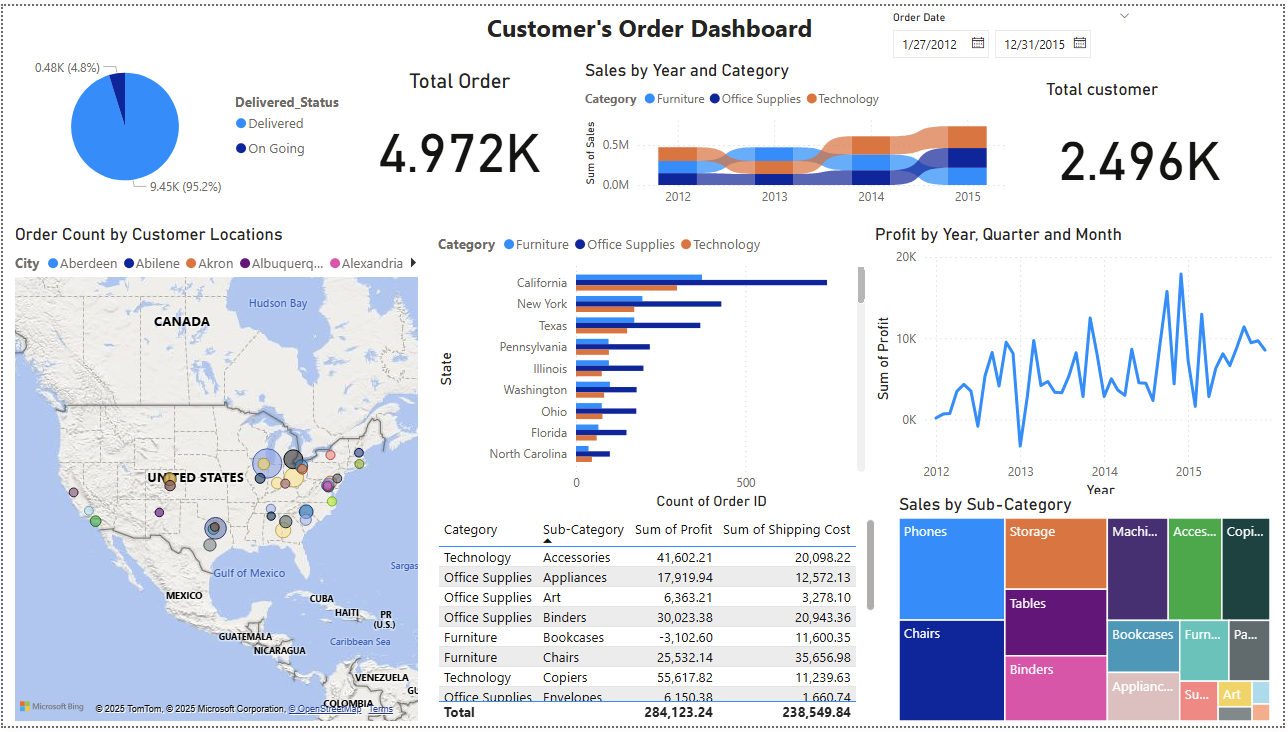

What the dashboard file says about the page in this screenshot:
{"tool":"powerbi","page":{"name":"Customer Order","canvas":[1280,720],"ordinal":0},"visuals":[{"type":"map","title":"Order Count by Customer Locations","fields":{"Y":["worldcities.lat"],"X":["worldcities.lng"],"Series":["Orders.City"],"Size":["CountNonNull(Orders.Order ID)"]},"box":[7,218,413,502],"z":0},{"type":"textbox","box":[478.8,0,363.8,42.5],"z":1000},{"type":"slicer","fields":{"Values":["Orders.Order Date"]},"box":[877,0,262,62],"z":2000},{"type":"cardVisual","title":"Total Order","fields":{"Data":["Count(Orders.Order ID)"]},"box":[348,63,217,135],"z":3000},{"type":"clusteredBarChart","fields":{"Y":["Count(Orders.Order ID)"],"Series":["Orders.Category"],"Category":["Orders.State"]},"box":[430,218,437,290],"z":4000},{"type":"pieChart","fields":{"Category":["Orders.Delivered_Status"],"Y":["CountNonNull(Orders.Order ID)"]},"box":[7,43,341,155],"z":5000},{"type":"tableEx","fields":{"Values":["Orders.Category","Orders.Sub-Category","Sum(Orders.Profit)","Sum(Orders.Shipping Cost)"]},"box":[430,508,447,212],"z":6000},{"type":"lineChart","title":"Profit by Year, Quarter and Month","fields":{"Category":["Orders.Order Date.Variation.Date Hierarchy.Year","Orders.Order Date.Variation.Date Hierarchy.Quarter","Orders.Order Date.Variation.Date Hierarchy.Month","Orders.Order Date.Variation.Date Hierarchy.Day"],"Y":["Sum(Orders.Profit)"]},"box":[867,218,413,279],"z":7000},{"type":"treemap","title":"Sales by Sub-Category","fields":{"Group":["Orders.Sub-Category","Orders.Segment"],"Values":["Sum(Orders.Sales)"]},"box":[891,488,381,232],"z":8000},{"type":"ribbonChart","title":"Sales by Year and Category","fields":{"Category":["Orders.Order Date.Variation.Date Hierarchy.Year"],"Series":["Orders.Category"],"Y":["Sum(Orders.Sales)"]},"box":[577,54,431,155],"z":9000},{"type":"cardVisual","title":"Total customer","fields":{"Data":["Count(Orders.Customer ID)"]},"box":[1038,73,234,136],"z":9001}]}

Visuals, with their boxes in screenshot pixels (x1, y1, x2, y2), scaled from the page's 1280x720 canvas onto the 1288x732 screenshot:
"Order Count by Customer Locations" map: l=7, t=222, r=423, b=731
textbox: l=482, t=0, r=848, b=43
slicer - Orders.Order Date: l=882, t=0, r=1146, b=63
"Total Order" cardVisual: l=350, t=64, r=569, b=201
clusteredBarChart - Count(Orders.Order ID) x Orders.Category: l=433, t=222, r=872, b=516
pieChart - Orders.Delivered_Status x CountNonNull(Orders.Order ID): l=7, t=44, r=350, b=201
tableEx - Orders.Category x Orders.Sub-Category: l=433, t=516, r=882, b=731
"Profit by Year, Quarter and Month" lineChart: l=872, t=222, r=1287, b=505
"Sales by Sub-Category" treemap: l=897, t=496, r=1280, b=731
"Sales by Year and Category" ribbonChart: l=581, t=55, r=1014, b=212
"Total customer" cardVisual: l=1044, t=74, r=1280, b=212
